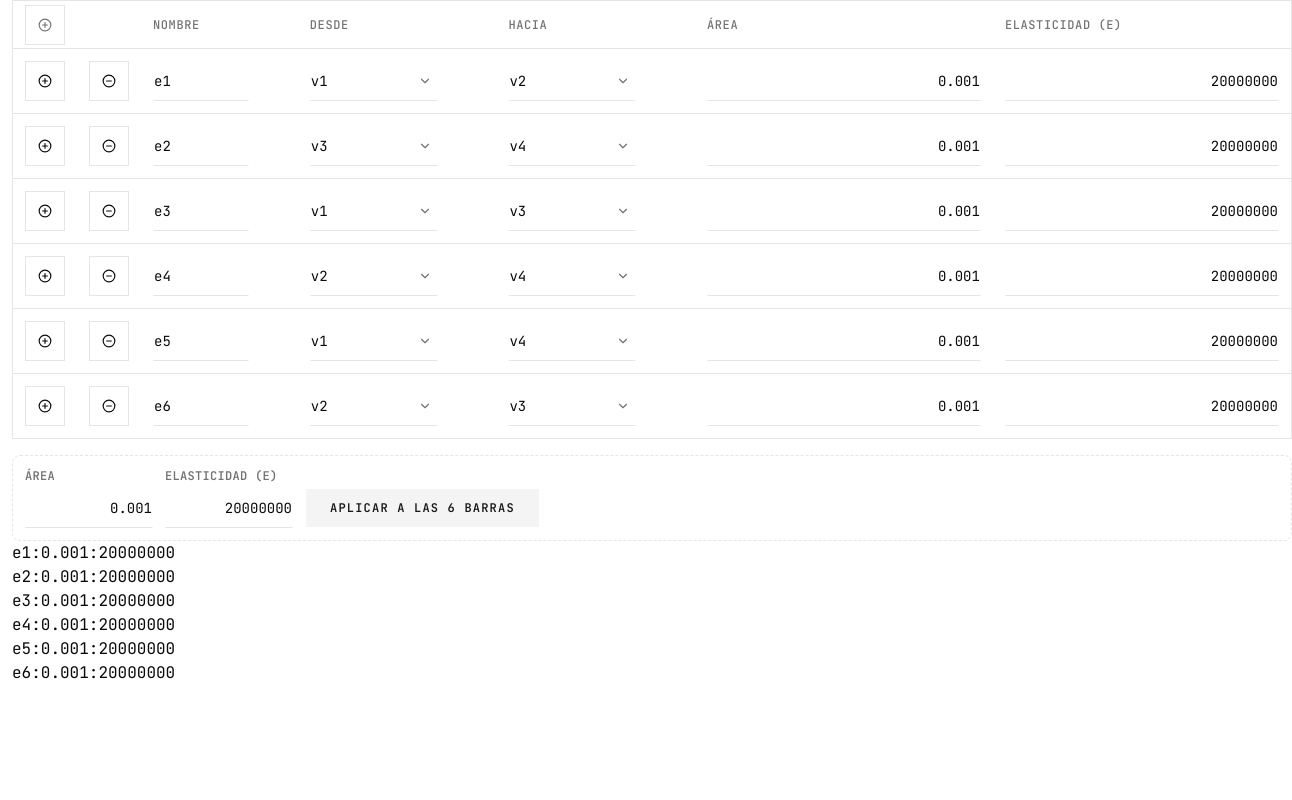
it: ElementTable › el rótulo del botón sigue a la cantidad de barras
Click the button named "Agregar una barra al final" at (45, 24), box left=25, top=4, right=65, bottom=44
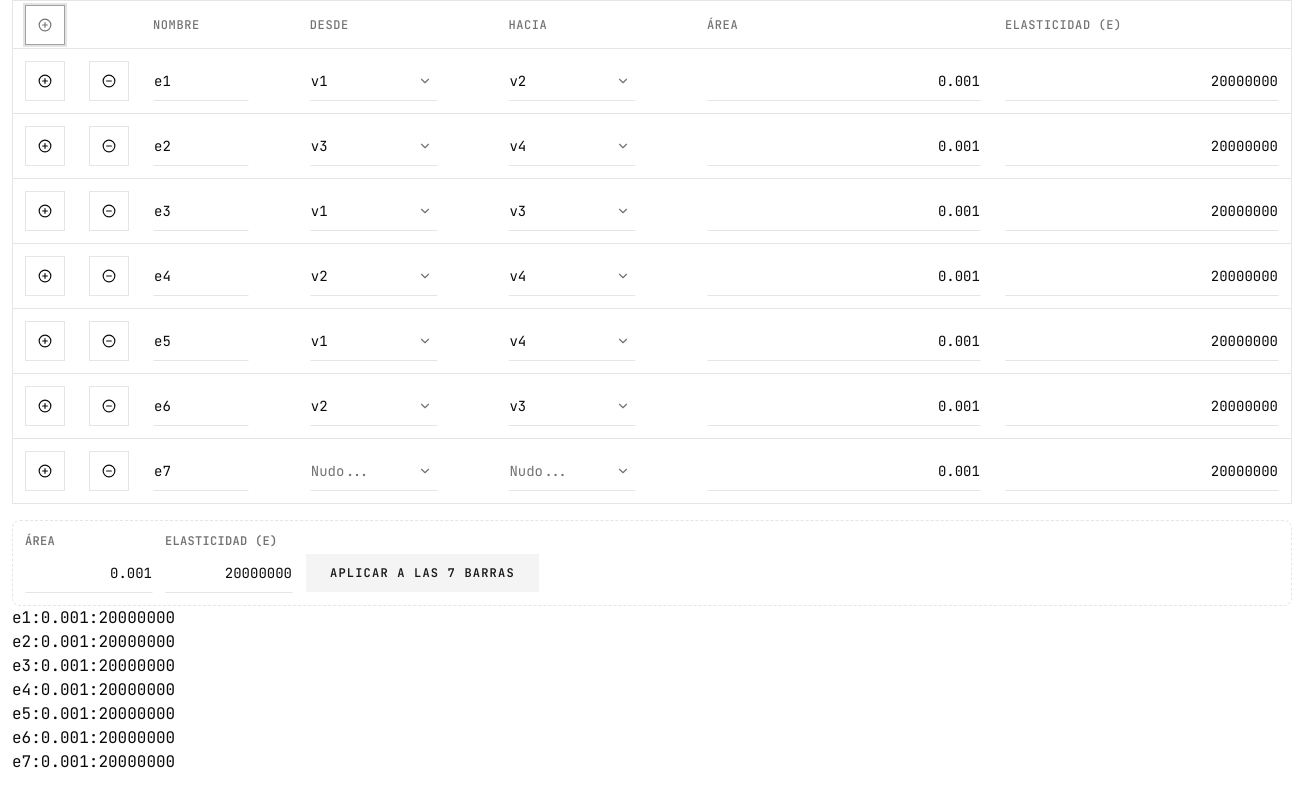
expect the button "Aplicar a las 7 barras" is shown: met, box left=305, top=553, right=540, bottom=593
